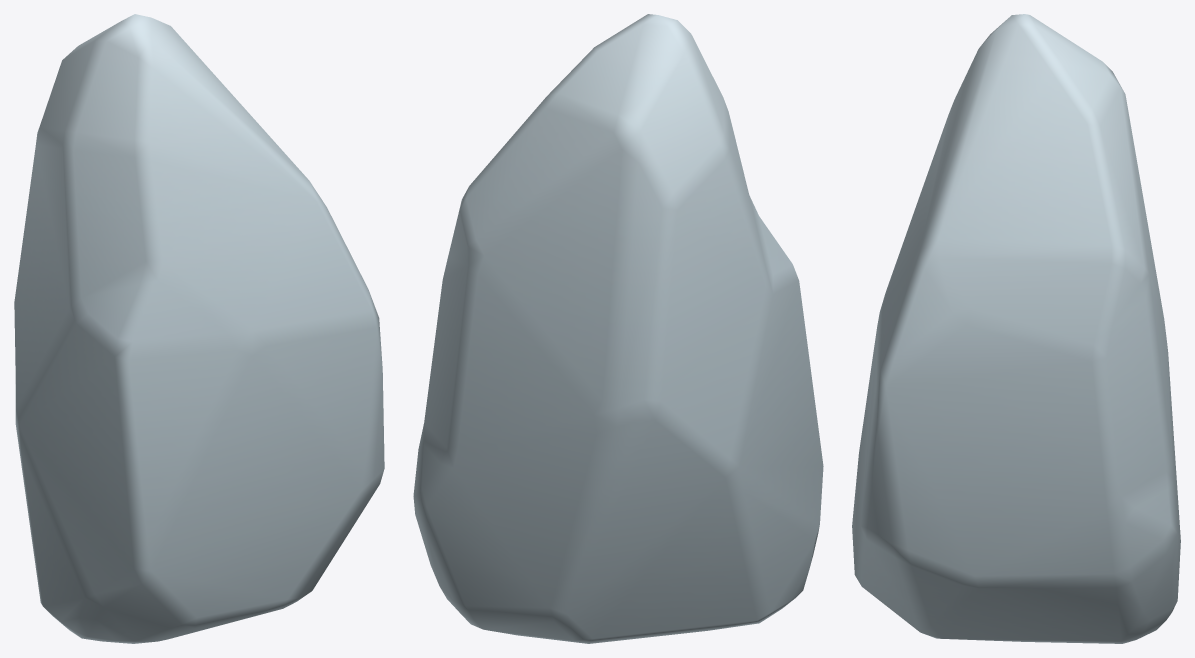
Rendered from stone_004_001.glb.
3 renders of one model, left to right at view 1: azimuth 30°, elevation 25°; view 2: azimuth 150°, elevation 25°; view 3: azimuth 270°, elevation 25°, orthographic. The views are drawn at different scales.
Parts seen in each view (by area): view 1: stone_004.001; view 2: stone_004.001; view 3: stone_004.001.
Boxes of the visible parts, x1,y1,x2,y2 form: stone_004.001: (14, 14, 384, 643); stone_004.001: (413, 14, 823, 643); stone_004.001: (852, 14, 1180, 643).
Bounding box in the file's own units: 2.38 × 4.51 × 2.36.
Materials: 1 (1 with a texture image).
